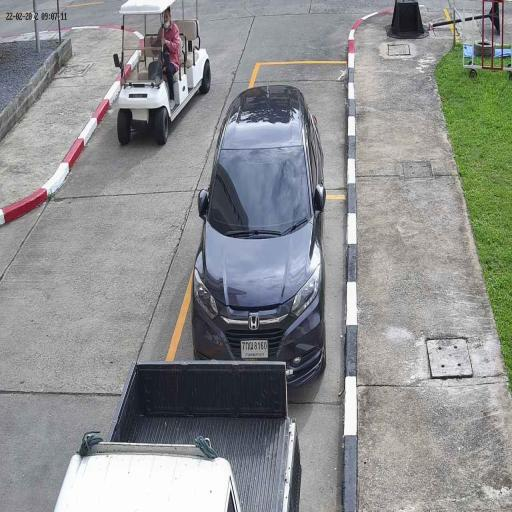car: (191, 88, 329, 382), (56, 360, 304, 512), (112, 0, 212, 142)
